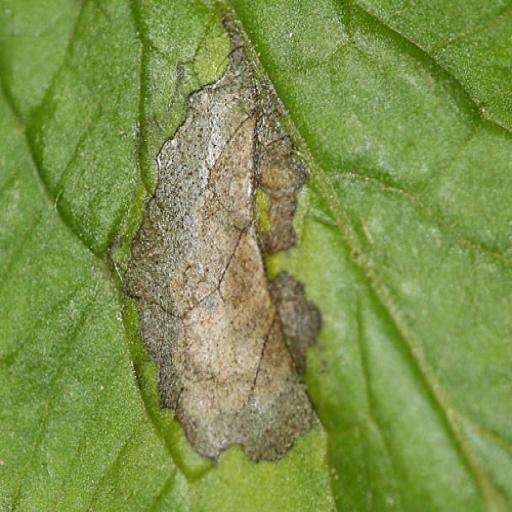disease_tomato: (3, 2, 512, 504)
